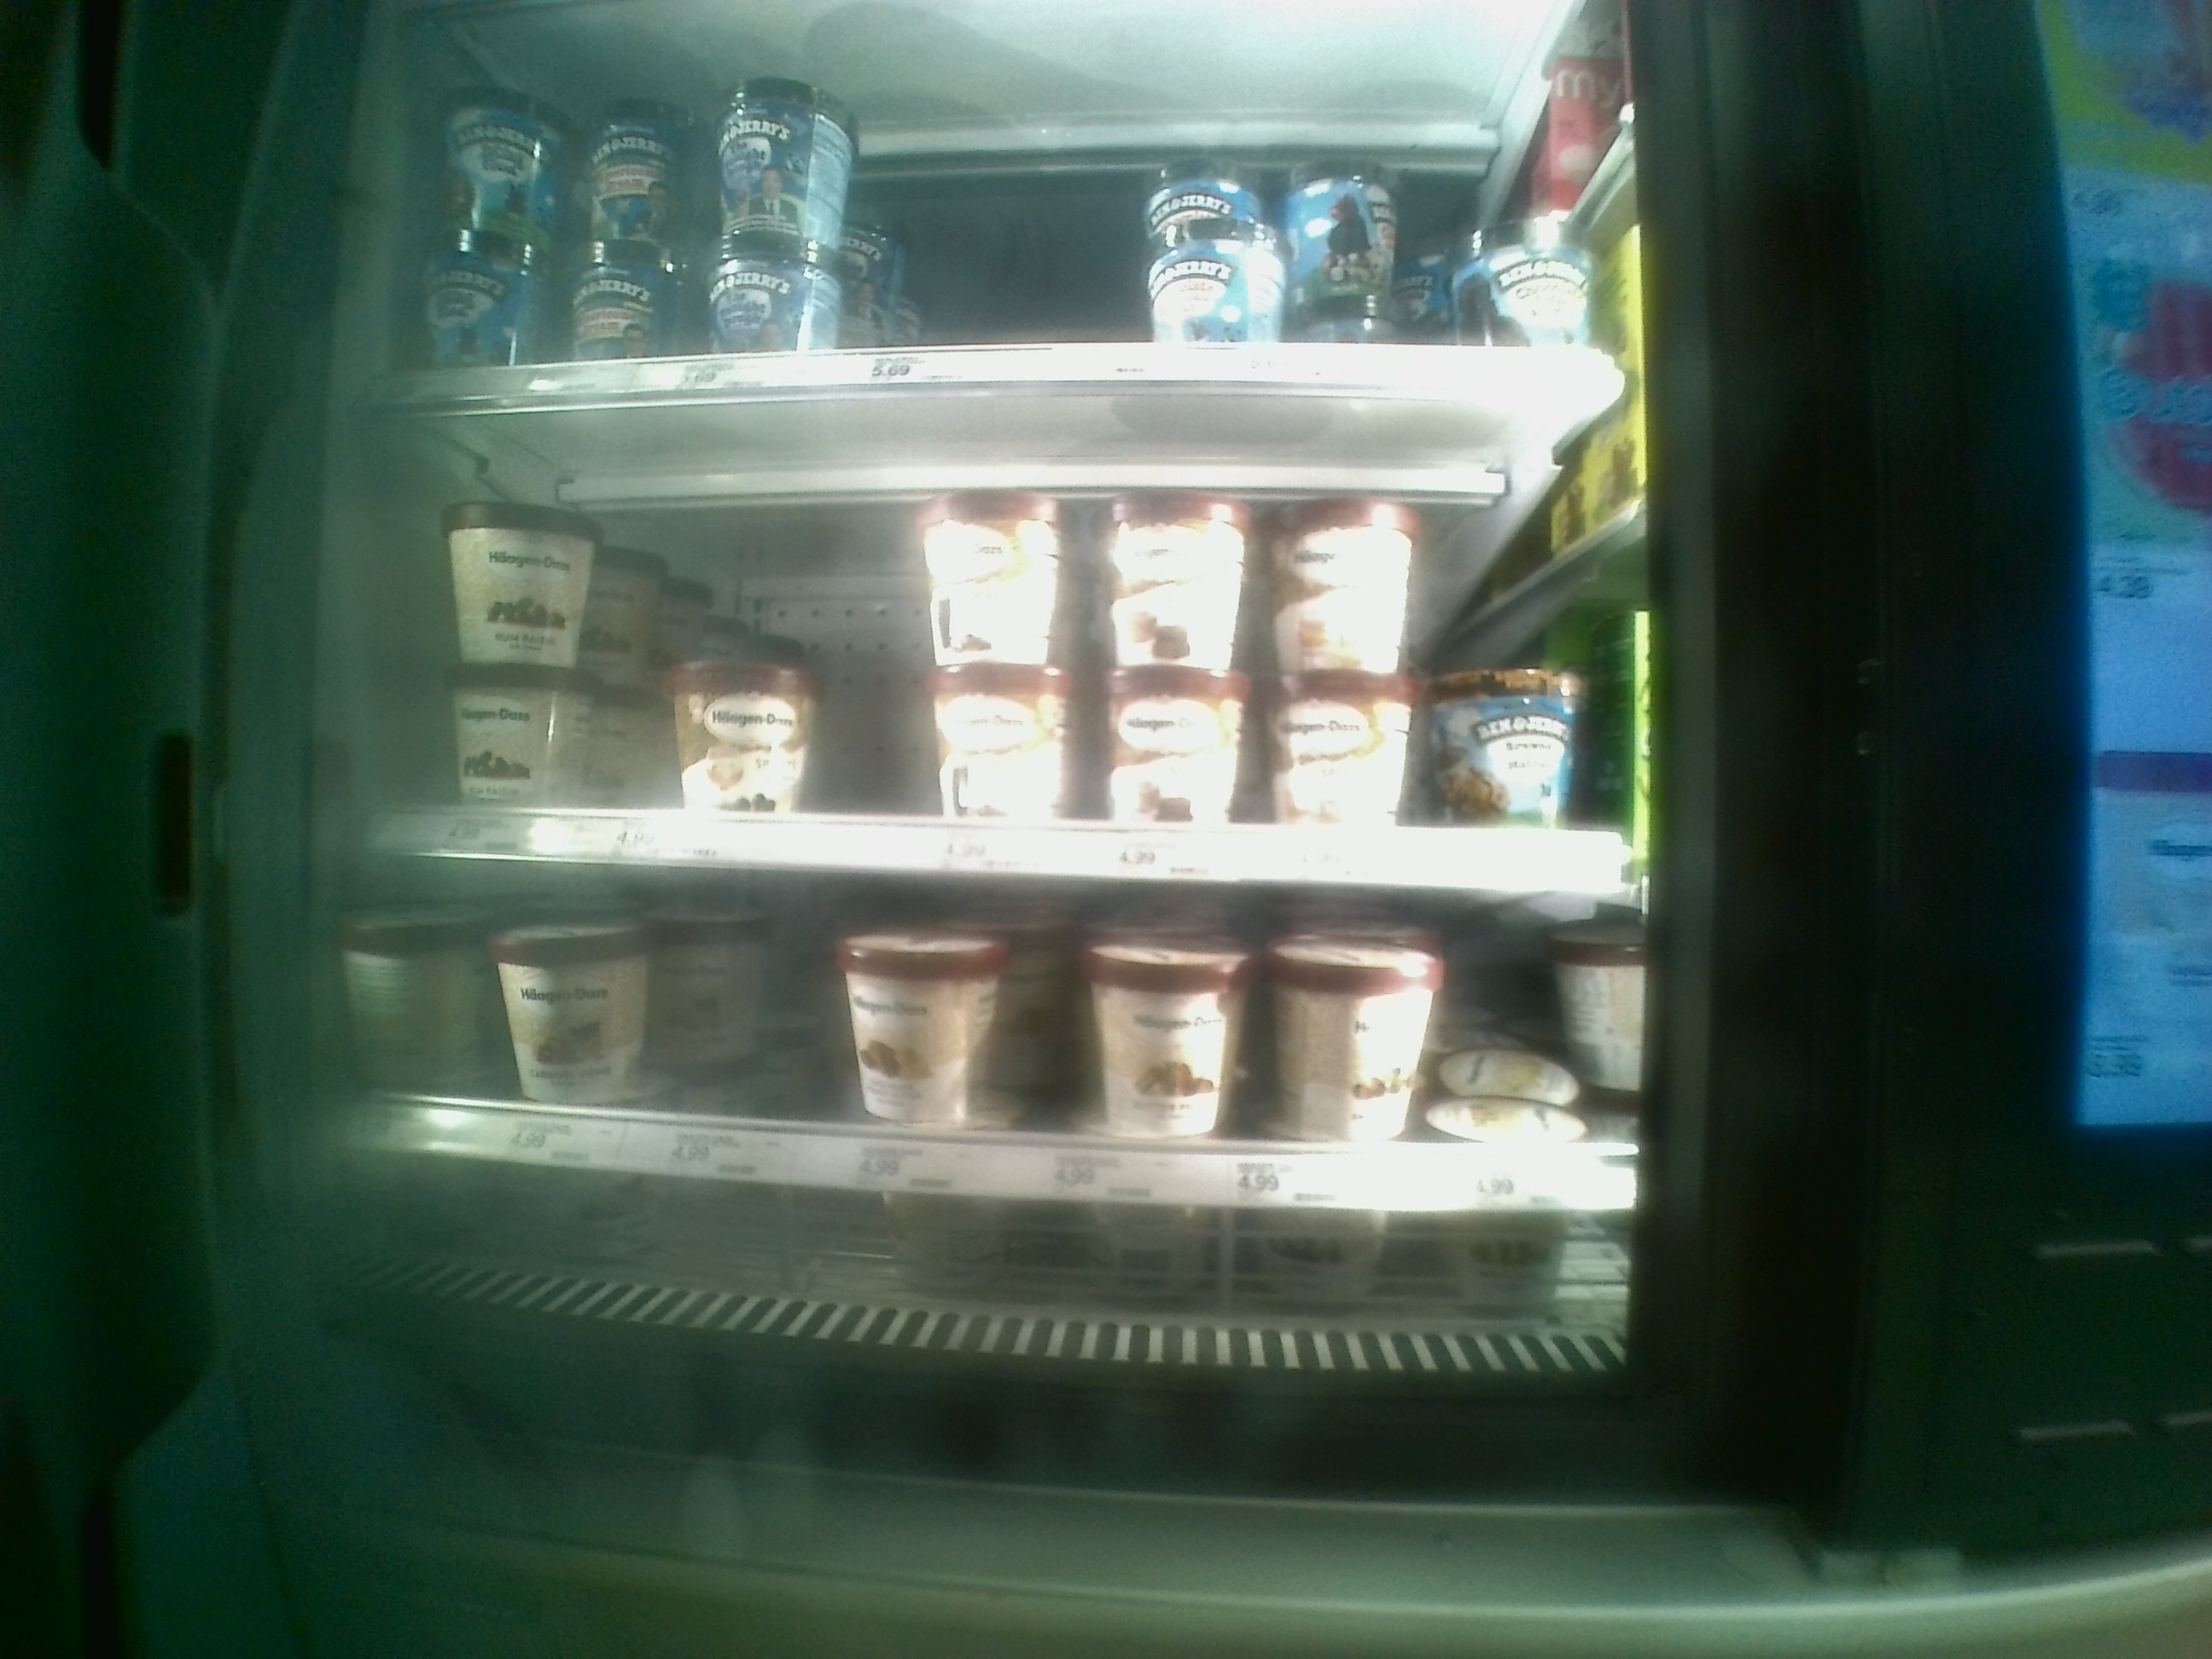shelf: (361, 864, 1656, 1356), (361, 397, 1644, 892)
